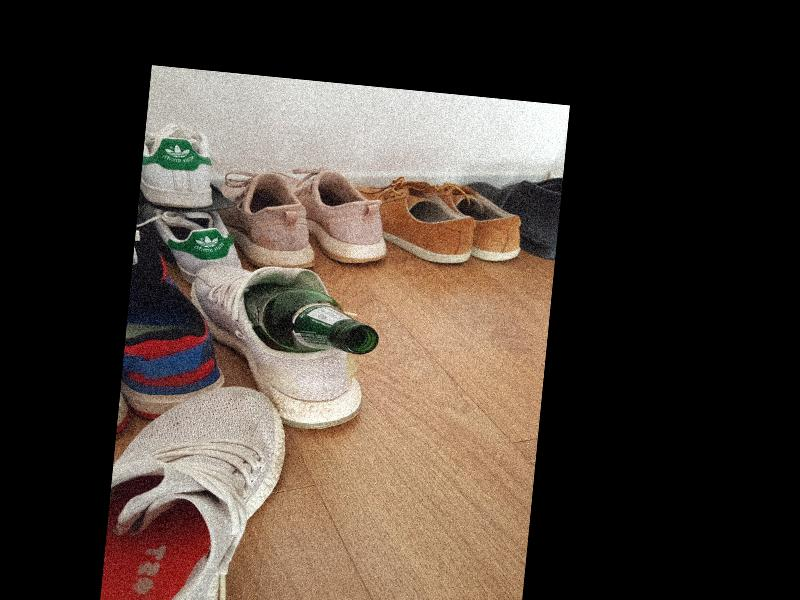Beer: (241, 280, 383, 357)
